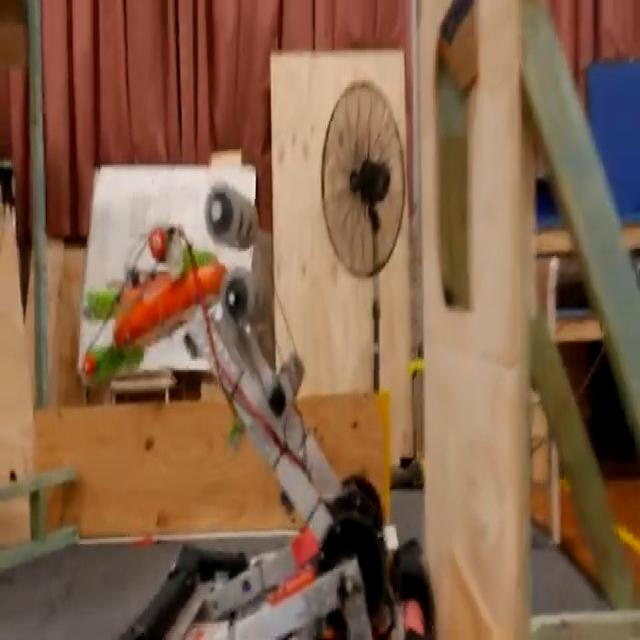note: (104, 253, 226, 360)
